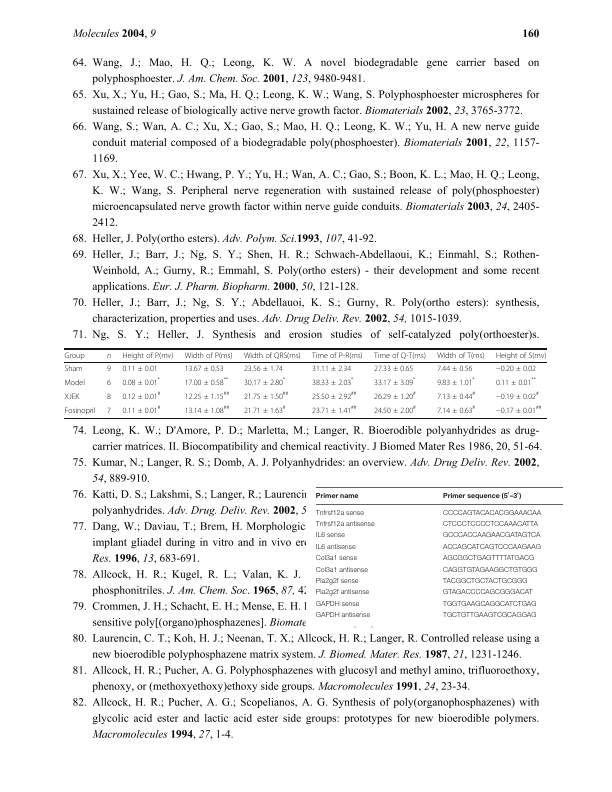borderless: (64, 347, 547, 418), (314, 485, 564, 620)
cell: (442, 509, 542, 518), (442, 543, 542, 552), (442, 520, 538, 529), (442, 611, 537, 620), (442, 554, 535, 563), (442, 532, 541, 540), (442, 577, 528, 586), (442, 566, 538, 574), (442, 600, 537, 608), (442, 589, 533, 597), (442, 492, 522, 500), (315, 520, 375, 529), (243, 351, 302, 360), (495, 404, 542, 415), (184, 390, 230, 401), (243, 390, 289, 401), (311, 390, 357, 401), (184, 404, 230, 415), (311, 404, 357, 415), (315, 611, 371, 620), (184, 376, 229, 387), (495, 390, 540, 401), (373, 351, 427, 360), (373, 390, 417, 401), (243, 404, 287, 415), (373, 404, 417, 415), (121, 351, 174, 360), (311, 351, 364, 360), (243, 376, 286, 387), (311, 376, 354, 387), (373, 376, 416, 387), (495, 351, 547, 360), (495, 376, 537, 387), (436, 351, 486, 360), (315, 509, 364, 518), (184, 351, 233, 360), (315, 589, 370, 597), (121, 376, 161, 387), (436, 376, 476, 387), (121, 390, 161, 401), (436, 390, 476, 401), (121, 404, 161, 415), (436, 404, 476, 415), (315, 566, 368, 574), (315, 577, 359, 586), (315, 554, 358, 563), (495, 364, 537, 373), (315, 543, 356, 552), (184, 364, 225, 373), (243, 364, 284, 373), (311, 364, 352, 373), (373, 364, 414, 373), (315, 600, 360, 608), (315, 492, 359, 500), (121, 364, 159, 373), (436, 364, 473, 373), (64, 406, 96, 415), (315, 532, 345, 540), (64, 378, 86, 387), (64, 351, 85, 360), (64, 364, 83, 373), (64, 392, 80, 401), (106, 364, 112, 373), (106, 378, 112, 387), (106, 392, 112, 401), (106, 406, 112, 415), (106, 353, 112, 359)
